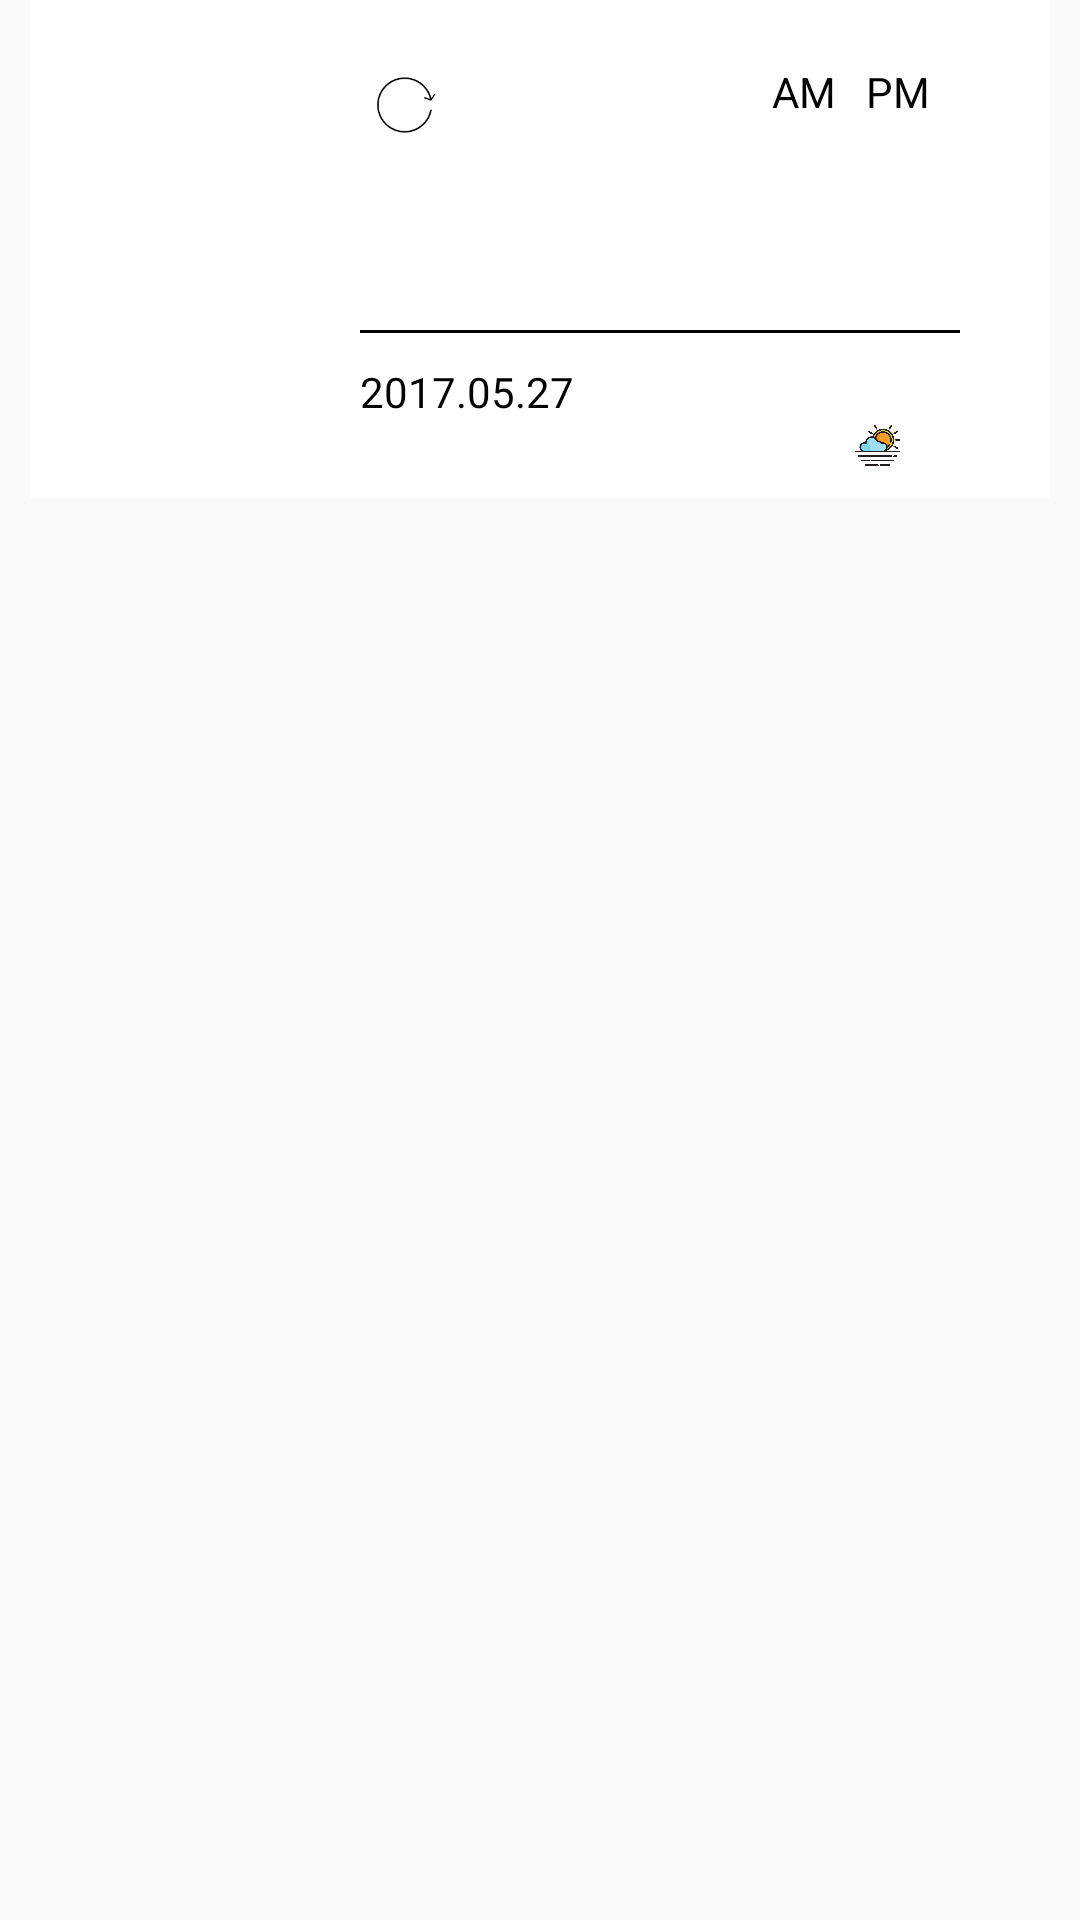

Screen size 1080 × 1920. Icon name, then its center in pixels as point (x, y):
cloudy: point (877, 445)
